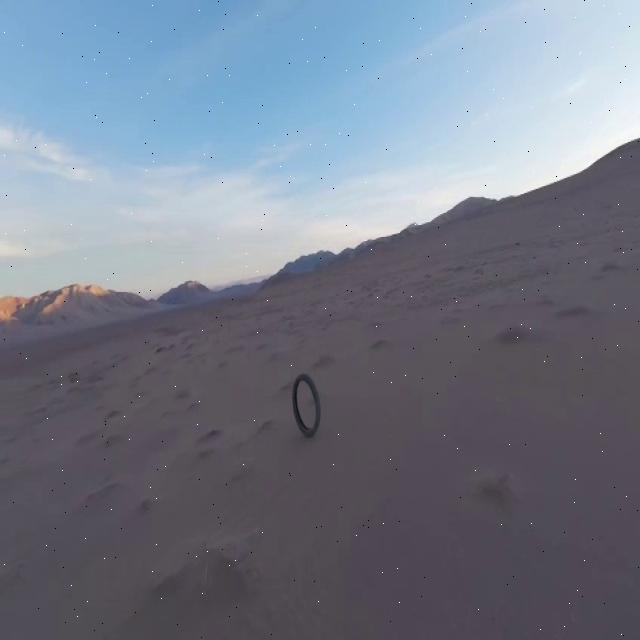Tire: (292, 374, 321, 436)
